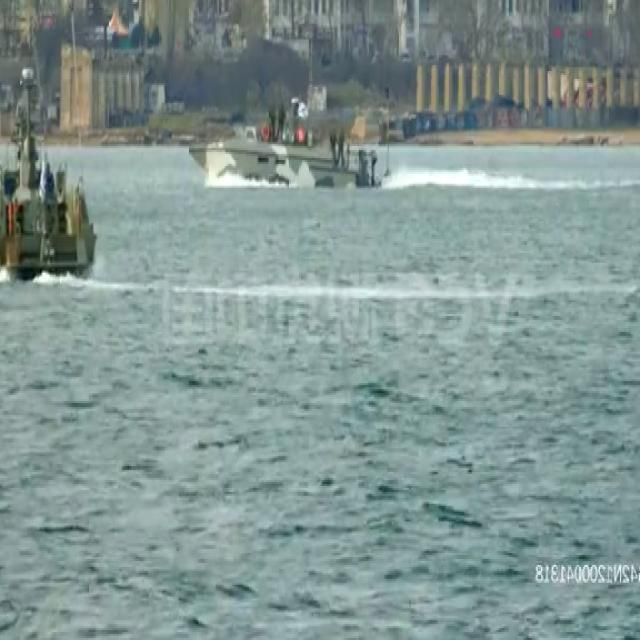houseboat: (0, 65, 98, 279), (196, 100, 384, 186)
